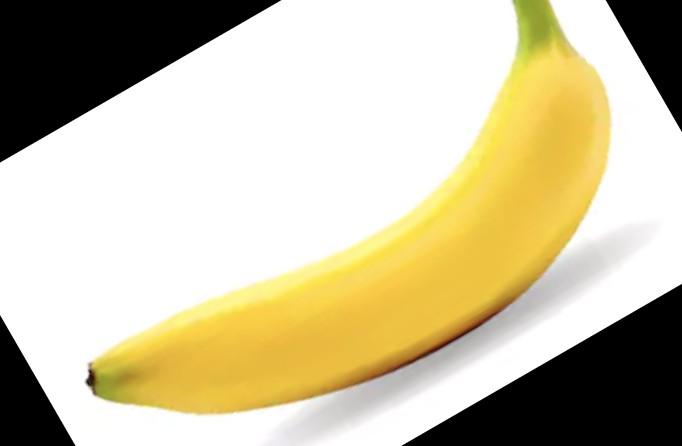fresh_banana: (87, 2, 611, 414)
